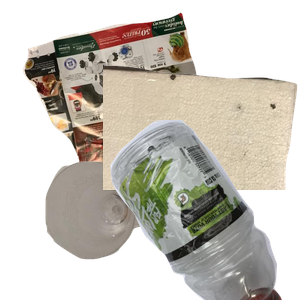glass: (43, 159, 187, 300)
paper: (20, 10, 231, 190)
plastic: (73, 120, 300, 300)
trash: (103, 62, 300, 242)
